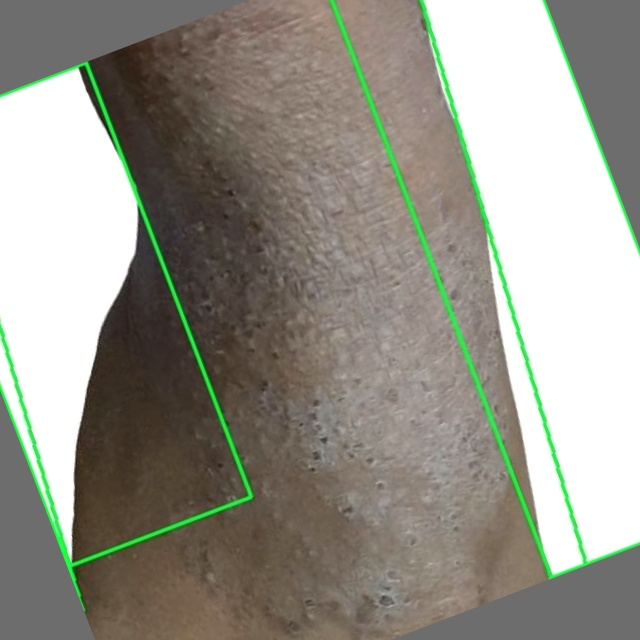Contact Dermatitis: (0, 0, 582, 639), (332, 0, 639, 577), (0, 62, 251, 566)
